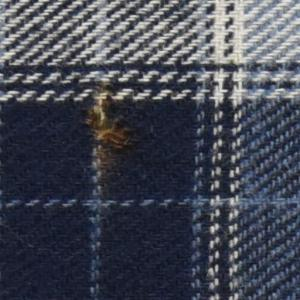Damage: (82, 86, 134, 158)
Oil Stain: (78, 78, 144, 198)
